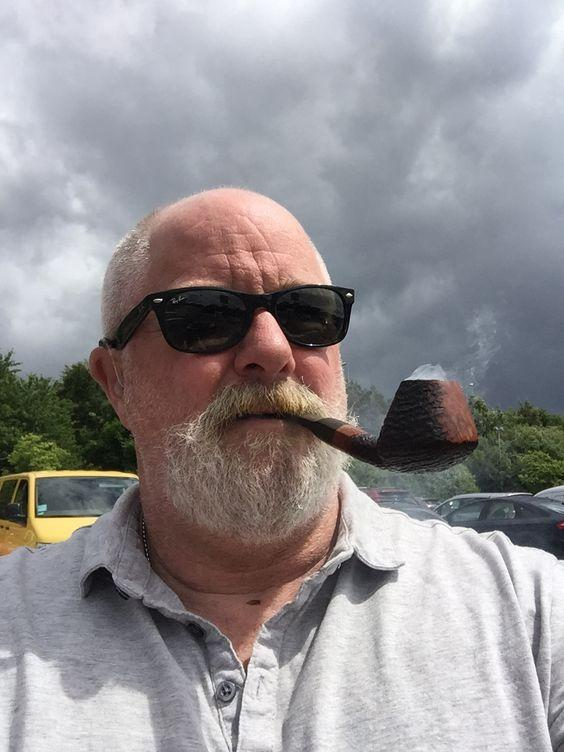trubka: (241, 378, 477, 471)
